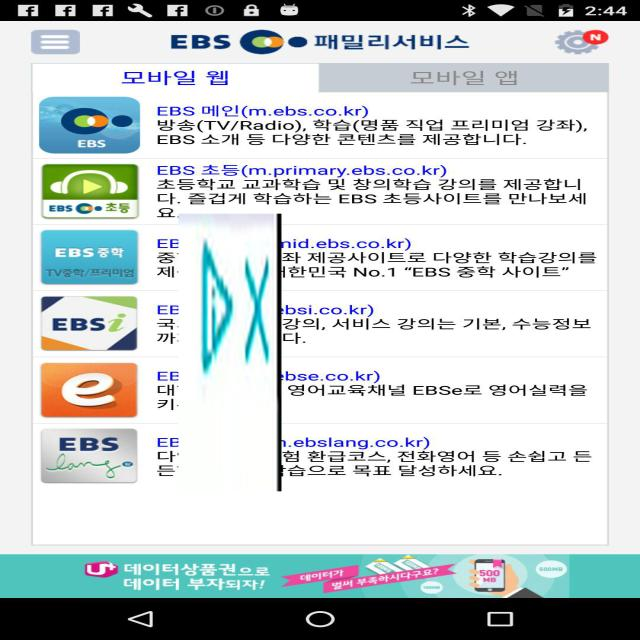sneaking: (178, 214, 282, 491)
